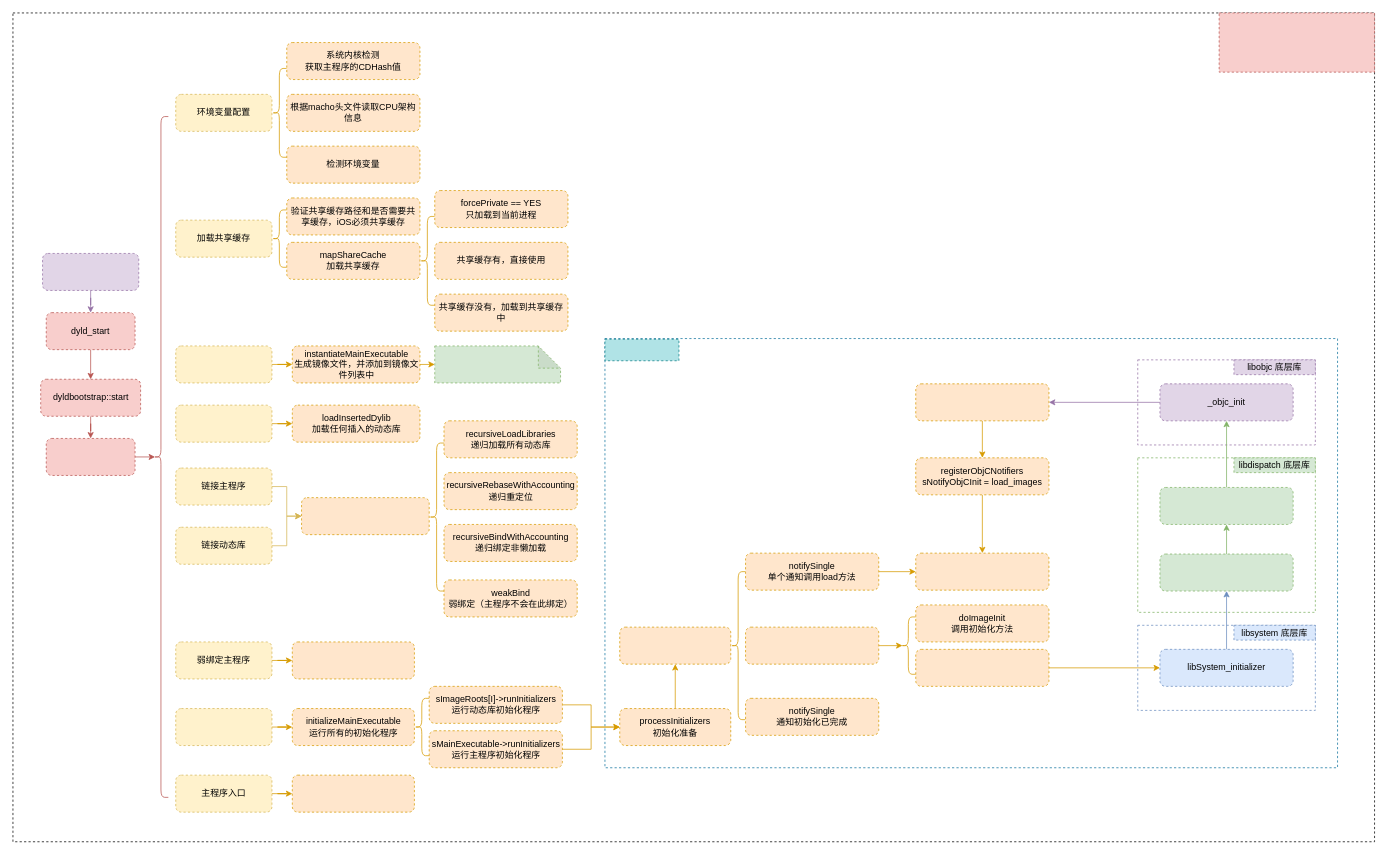
Some shapes in this 1388 by 855 pixel diagram are drawn without their labels. The box of each missing label's shape, as (x1, y1, x2, y2) in pixels:
_dyld_objc_notify_register 第二个是load_images: (915, 383, 1049, 421)
_os_object_init: (1159, 487, 1293, 524)
doInitialization 遍历初始化: (745, 626, 879, 664)
doModInitFunctions 调用C++函数，先运行libSystem: (915, 649, 1049, 686)
dyld::_main: (46, 438, 135, 475)
dyld加载流程: (1218, 12, 1375, 72)
dyld流程: (42, 253, 139, 290)
libdispatch_init: (1159, 553, 1293, 591)
link 链接主程序和动态库: (301, 497, 429, 535)
recursiveInitialization 递归初始化: (619, 626, 731, 664)
sMainExecutable->weakBind 弱绑定: (292, 641, 414, 679)
sNotifyObjCInit 调用load_images，即load方法: (915, 552, 1049, 590)
初始化主程序: (175, 345, 272, 383)
动态库不能超过4096个， segment段不能超过256个: (434, 345, 561, 383)
完美闭环: (604, 339, 679, 361)
插入动态库: (175, 404, 272, 442)
读取主程序中的LC_MAIN 获取main函数地址: (292, 774, 414, 812)
运行初始化方法: (175, 708, 272, 746)
